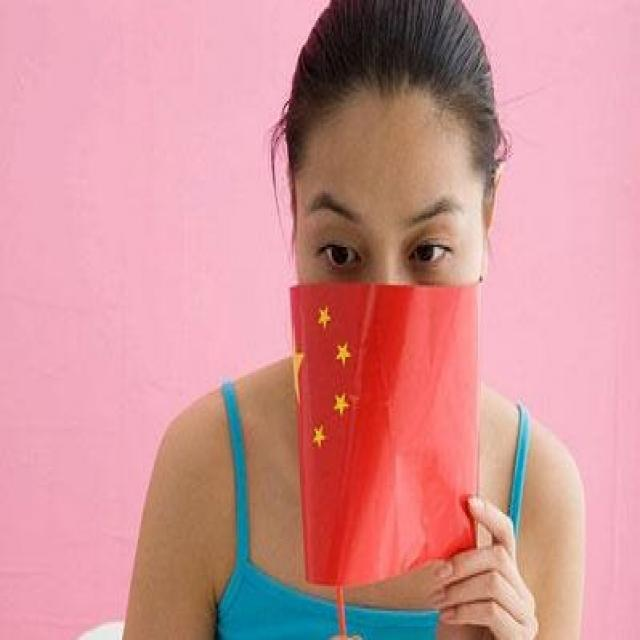mask: (293, 109, 483, 430)
